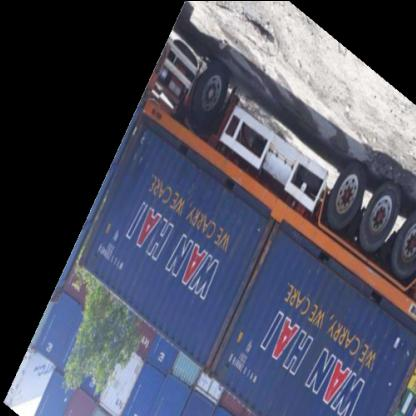Damage: (199, 220, 285, 380)
